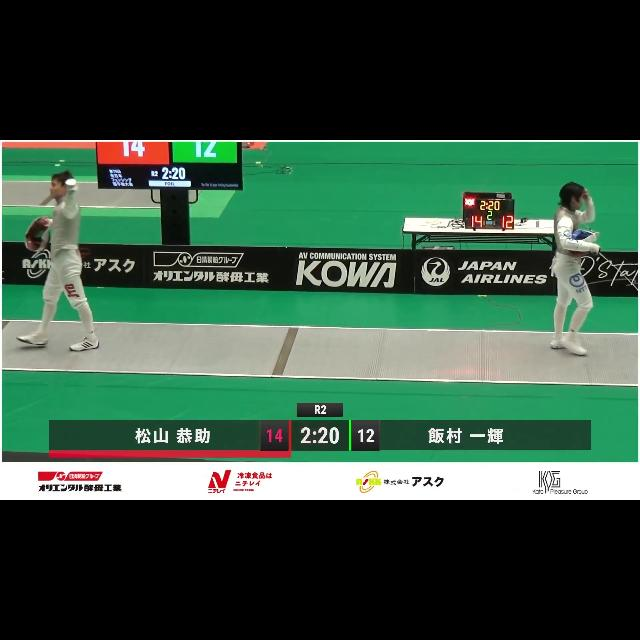blade: (594, 246, 638, 294)
